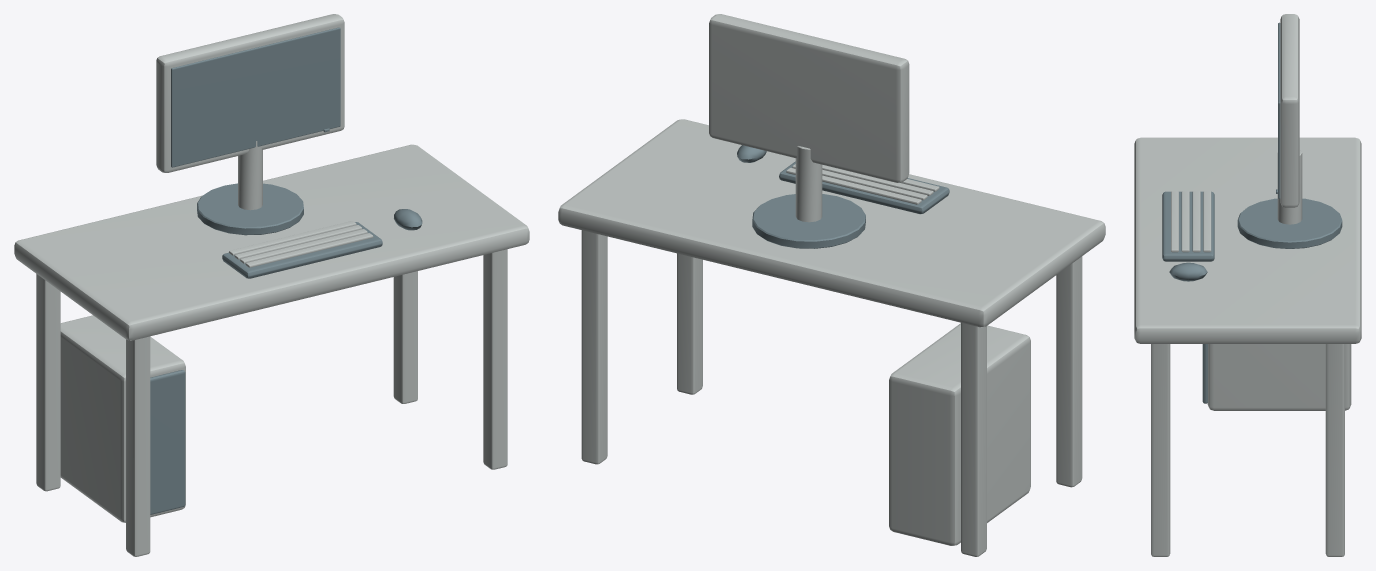
The model's file is computer-desk-setup.glb.
The picture shows the model from 3 angles, left to right: view 1: azimuth 30°, elevation 25°; view 2: azimuth 150°, elevation 25°; view 3: azimuth 270°, elevation 25°; orthographic projection. The views are drawn at different scales.
Visible parts, largest first — view 1: desk_top, computer_monitor_screen, computer_tower, computer_monitor_housing, leg_0_1, leg_1_1, leg_0_0, tower_front, monitor_base, leg_1_0, keyboard, monitor_neck (+4 smaller); view 2: desk_top, computer_monitor_housing, computer_tower, leg_1_0, leg_0_0, leg_0_1, monitor_base, leg_1_1, monitor_neck, keyboard, key_row, key_row.001; view 3: desk_top, computer_tower, leg_1_0, leg_1_1, computer_monitor_housing, monitor_base, keyboard, monitor_neck, mouse, key_row, key_row.001, key_row.002 (+3 smaller).
Boxes of the visible parts, x1,y1,x2,y2 form: desk_top: [14, 144, 529, 340]; computer_monitor_screen: [171, 27, 340, 167]; computer_tower: [60, 315, 185, 522]; computer_monitor_housing: [156, 14, 344, 172]; leg_0_1: [126, 336, 150, 556]; leg_1_1: [483, 249, 507, 469]; leg_0_0: [36, 274, 60, 491]; tower_front: [150, 370, 185, 514]; monitor_base: [197, 183, 303, 235]; leg_1_0: [393, 271, 417, 403]; keyboard: [222, 222, 382, 278]; monitor_neck: [238, 141, 262, 210]; desk_top: [558, 119, 1105, 327]; computer_monitor_housing: [709, 14, 909, 182]; computer_tower: [889, 323, 1030, 545]; leg_1_0: [581, 230, 607, 464]; leg_0_0: [961, 322, 986, 556]; leg_0_1: [1056, 256, 1082, 487]; monitor_base: [752, 194, 865, 248]; leg_1_1: [677, 253, 702, 394]; monitor_neck: [795, 146, 822, 222]; keyboard: [779, 161, 949, 214]; key_row: [786, 168, 921, 204]; key_row.001: [792, 164, 927, 200]; desk_top: [1134, 137, 1361, 343]; computer_tower: [1207, 344, 1351, 410]; leg_1_0: [1325, 344, 1344, 556]; leg_1_1: [1151, 344, 1170, 556]; computer_monitor_housing: [1280, 14, 1299, 207]; monitor_base: [1237, 198, 1342, 248]; keyboard: [1162, 191, 1214, 261]; monitor_neck: [1277, 150, 1302, 224]; mouse: [1169, 262, 1207, 281]; key_row: [1203, 191, 1211, 252]; key_row.001: [1192, 191, 1200, 252]; key_row.002: [1181, 191, 1189, 252].
Bounding box in the file's own units: 1.3 × 1.3 × 0.65.
